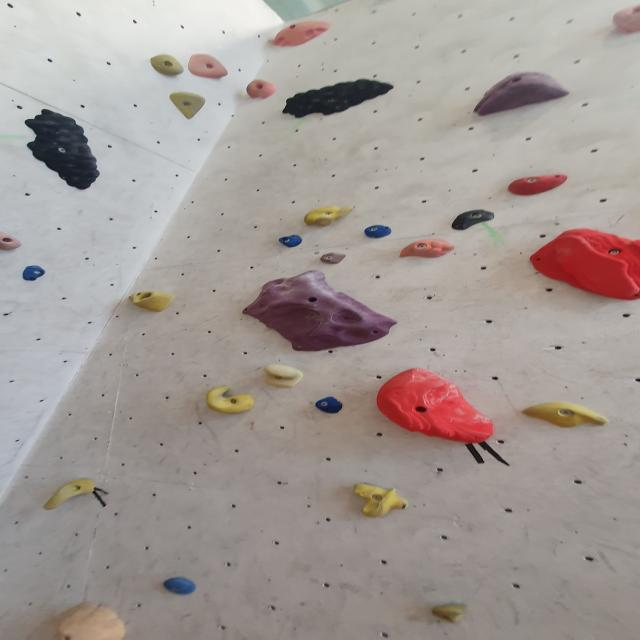Crimp: (236, 265, 396, 354), (519, 399, 617, 436), (507, 174, 575, 201), (164, 574, 203, 596), (314, 396, 348, 417), (359, 224, 396, 242), (20, 265, 48, 284), (273, 234, 306, 250), (320, 250, 350, 266)
Jug: (20, 108, 110, 198), (276, 70, 394, 119), (351, 482, 414, 523), (36, 476, 98, 513), (203, 383, 258, 416), (165, 89, 210, 122), (186, 50, 230, 83), (302, 204, 359, 228), (429, 600, 474, 628), (261, 363, 305, 391), (147, 53, 186, 80), (245, 79, 280, 102), (0, 232, 24, 253)
Pinch: (523, 224, 640, 300)
Pocket: (128, 288, 178, 314)
Sloper: (372, 368, 500, 446), (464, 68, 573, 118), (47, 600, 133, 640), (270, 18, 336, 52), (395, 238, 457, 262), (609, 0, 640, 38)
